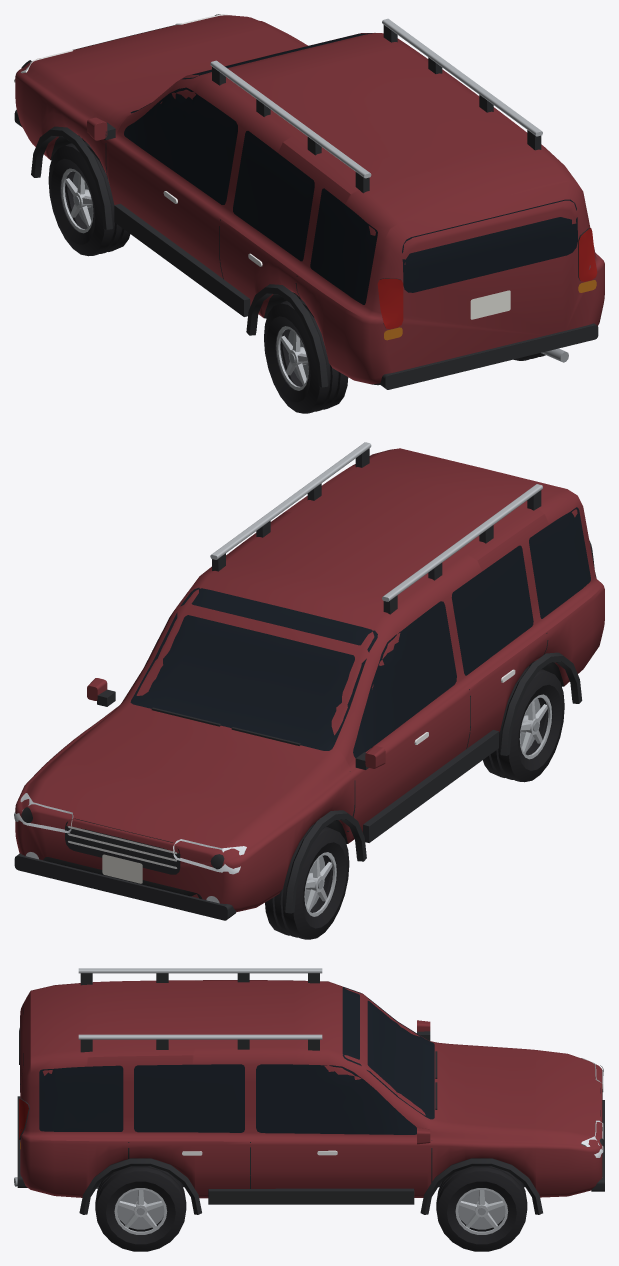
The model's file is parked_suv_b.glb.
3 views of the same model, one above another, from view 1: azimuth 30°, elevation 25°; view 2: azimuth 150°, elevation 25°; view 3: azimuth 270°, elevation 25° (orthographic). The views are drawn at different scales.
Visible parts, largest first — view 1: parked_suv_b; view 2: parked_suv_b; view 3: parked_suv_b.
Boxes of the visible parts, left/top/right/bottom form: parked_suv_b: left=14, top=14, right=604, bottom=413; parked_suv_b: left=14, top=442, right=604, bottom=939; parked_suv_b: left=14, top=968, right=604, bottom=1251.
Size of the model in its own units: 9.84 by 8.27 by 21.84.
